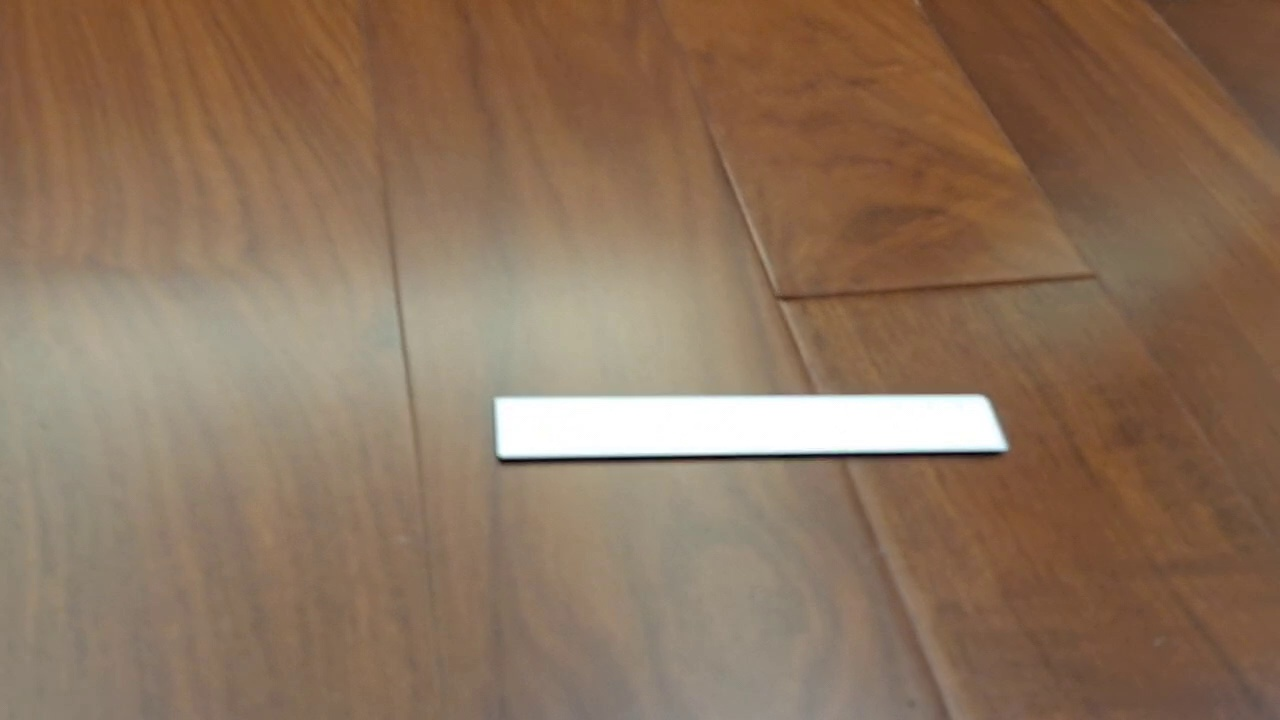ruler: (493, 391, 1012, 464)
